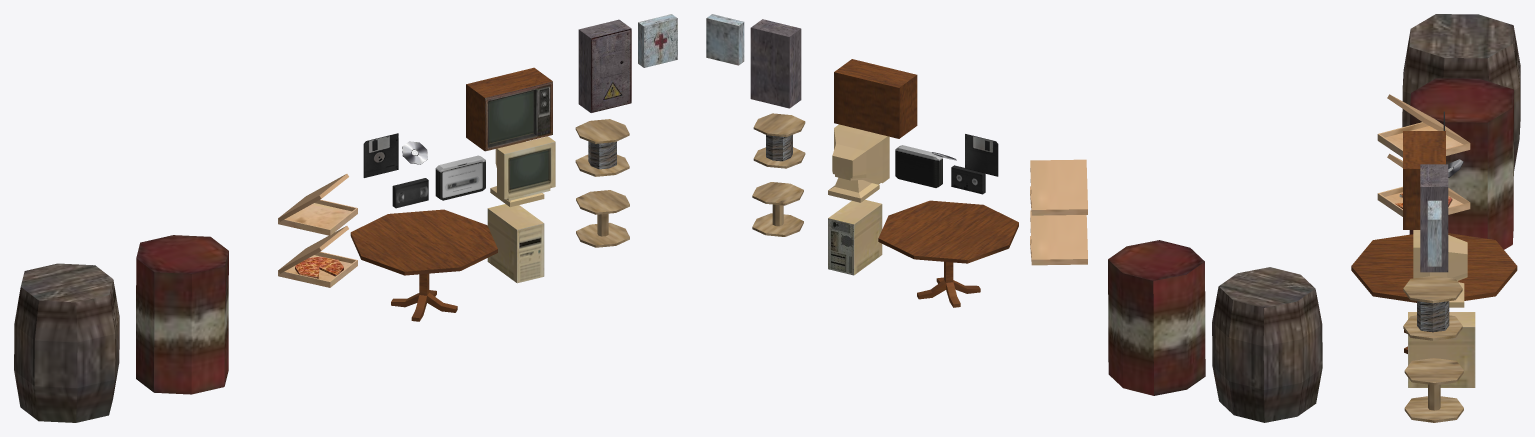
File: ps1_style_objects_pack.glb
3 views of the same model, side by side, from view 1: azimuth 30°, elevation 25°; view 2: azimuth 150°, elevation 25°; view 3: azimuth 270°, elevation 25° (orthographic). The views are drawn at different scales.
Visible parts, largest first — view 1: Cube.027_11, Cube.026_2, Cube.004_0, Cube.019_13, Cube.022_3, Cube.012_1, Cube.016_15, Cube.021_14, Cube.009_6, Cube.014_9, Cube.020_8, Cube.030_12 (+3 smaller); view 2: Cube.027_11, Cube.026_2, Cube.004_0, Cube.019_13, Cube.022_3, Cube.016_15, Cube.012_1, Cube.009_6, Cube.014_9, Cube.021_14, Cube.020_8, Cube.030_12 (+3 smaller); view 3: Cube.026_2, Cube.027_11, Cube.004_0, Cube.021_14, Cube.020_8, Cube.019_13, Cube.012_1, Cube.022_3, Cube.009_6, Cube.016_15, Cube.030_12, Cube.014_9 (+1 smaller).
Part boxes in pixels (x1,y1,x2,y2): Cube.027_11: (14, 263, 119, 422); Cube.026_2: (136, 235, 228, 394); Cube.004_0: (350, 209, 497, 321); Cube.019_13: (466, 67, 552, 151); Cube.022_3: (578, 19, 631, 112); Cube.012_1: (487, 204, 544, 283); Cube.016_15: (490, 136, 555, 207); Cube.021_14: (575, 119, 629, 176); Cube.009_6: (278, 174, 357, 235); Cube.014_9: (278, 226, 357, 287); Cube.020_8: (576, 190, 629, 247); Cube.030_12: (638, 14, 677, 67); Cube.027_11: (1212, 267, 1322, 422); Cube.026_2: (1108, 240, 1205, 395); Cube.004_0: (878, 200, 1018, 307); Cube.019_13: (834, 59, 917, 138); Cube.022_3: (750, 19, 801, 108); Cube.016_15: (828, 124, 889, 202); Cube.012_1: (828, 199, 882, 275); Cube.009_6: (1030, 159, 1087, 215); Cube.014_9: (1030, 210, 1087, 265); Cube.021_14: (753, 113, 805, 168); Cube.020_8: (752, 182, 803, 236); Cube.030_12: (706, 14, 744, 65); Cube.026_2: (1409, 78, 1513, 249); Cube.027_11: (1402, 14, 1520, 170); Cube.004_0: (1351, 233, 1517, 353); Cube.021_14: (1403, 276, 1462, 340); Cube.020_8: (1404, 358, 1463, 422); Cube.019_13: (1403, 131, 1445, 229); Cube.012_1: (1408, 312, 1475, 387); Cube.022_3: (1420, 164, 1448, 272); Cube.009_6: (1377, 94, 1470, 157); Cube.016_15: (1413, 230, 1467, 307); Cube.030_12: (1427, 200, 1441, 266); Cube.014_9: (1377, 153, 1470, 216).
Bounding box in the file's own units: 25.1 × 9.54 × 5.04.
Materials: 22 (22 with a texture image).
